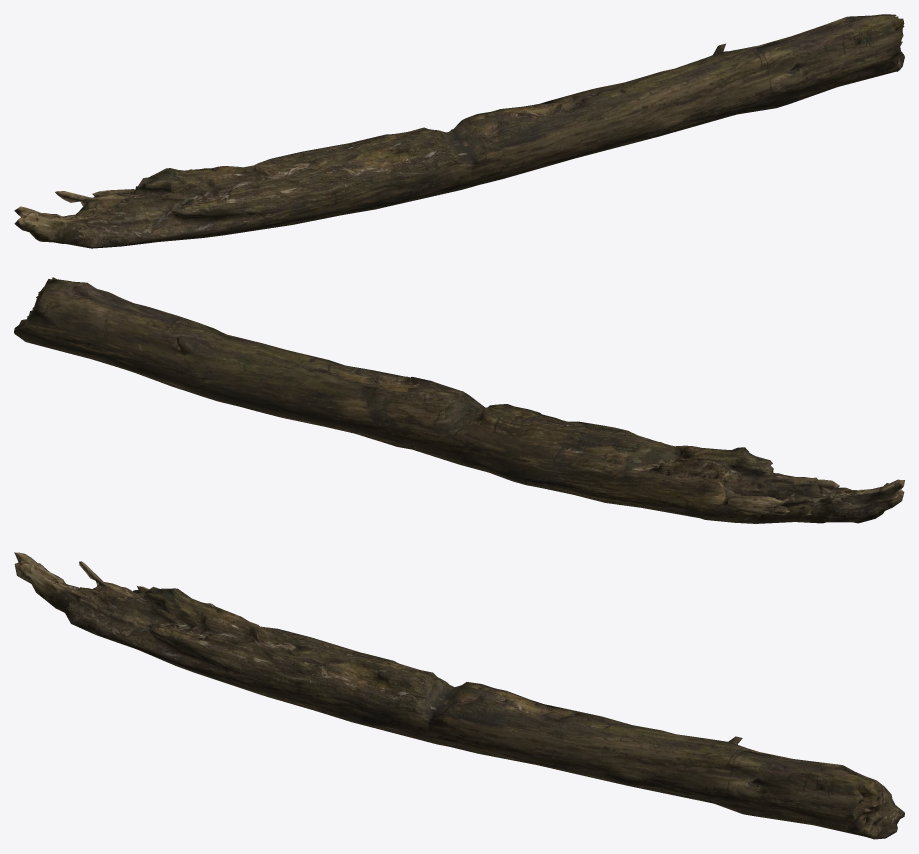
Rendered from dead_trunk.glb.
3 views of the same model, one above another, from view 1: azimuth 30°, elevation 25°; view 2: azimuth 150°, elevation 25°; view 3: azimuth 330°, elevation 25° (orthographic).
Parts seen in each view (by area): view 1: dead_tree_trunk; view 2: dead_tree_trunk; view 3: dead_tree_trunk.
Boxes of the visible parts, x1=… form: dead_tree_trunk: x1=14, y1=14, x2=904, y2=248; dead_tree_trunk: x1=14, y1=277, x2=904, y2=523; dead_tree_trunk: x1=14, y1=552, x2=904, y2=839.
Bounding box in the file's own units: 6 × 0.5632 × 0.5457.
1 material, 1 textured.
